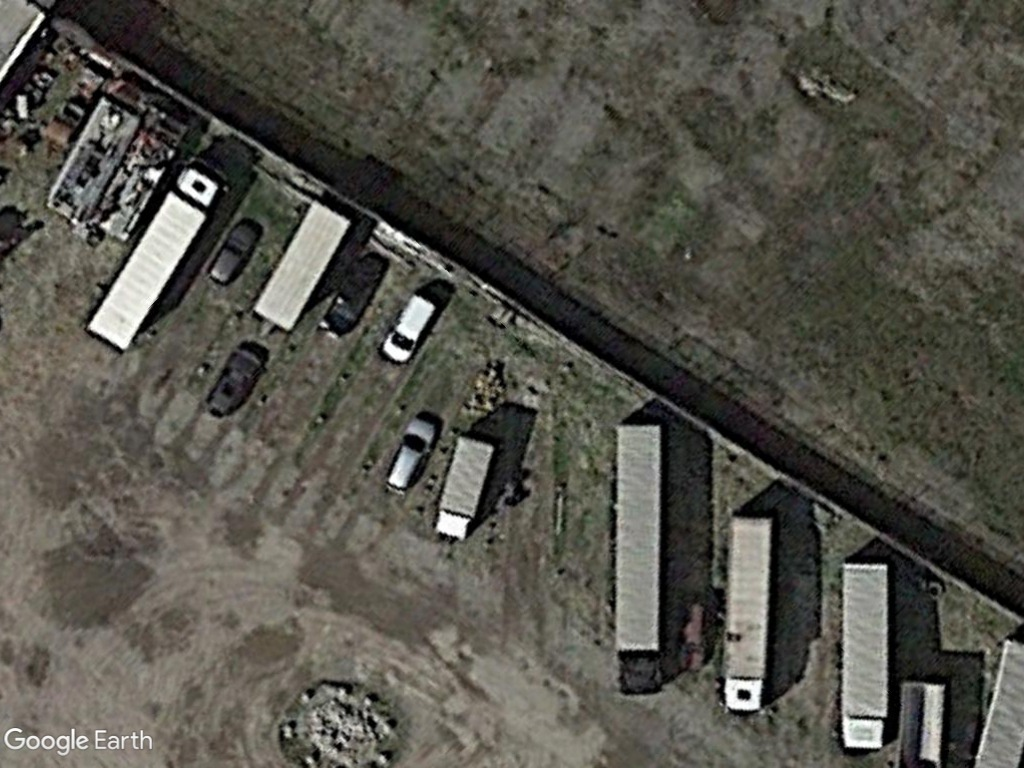car: (376, 416, 440, 497), (205, 220, 263, 288)
longvehicle: (70, 157, 225, 358), (604, 413, 668, 698), (709, 509, 780, 721), (833, 556, 896, 756)
truck: (424, 433, 504, 542)
van: (374, 289, 440, 369)
